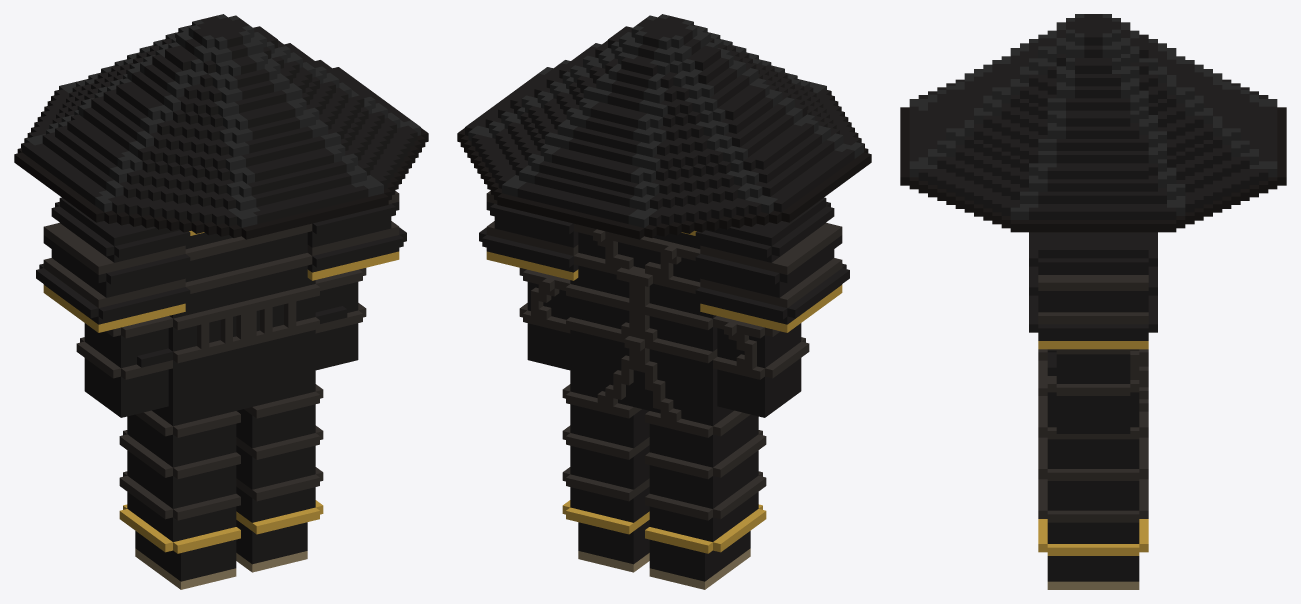
File: blademaster.obj
3 views of the same model, side by side, from view 1: azimuth 30°, elevation 25°; view 2: azimuth 150°, elevation 25°; view 3: azimuth 270°, elevation 25° (orthographic).
Bounding box in the file's own units: 4.2 × 6.4 × 4.2.
Materials: 1 (1 with a texture image).
